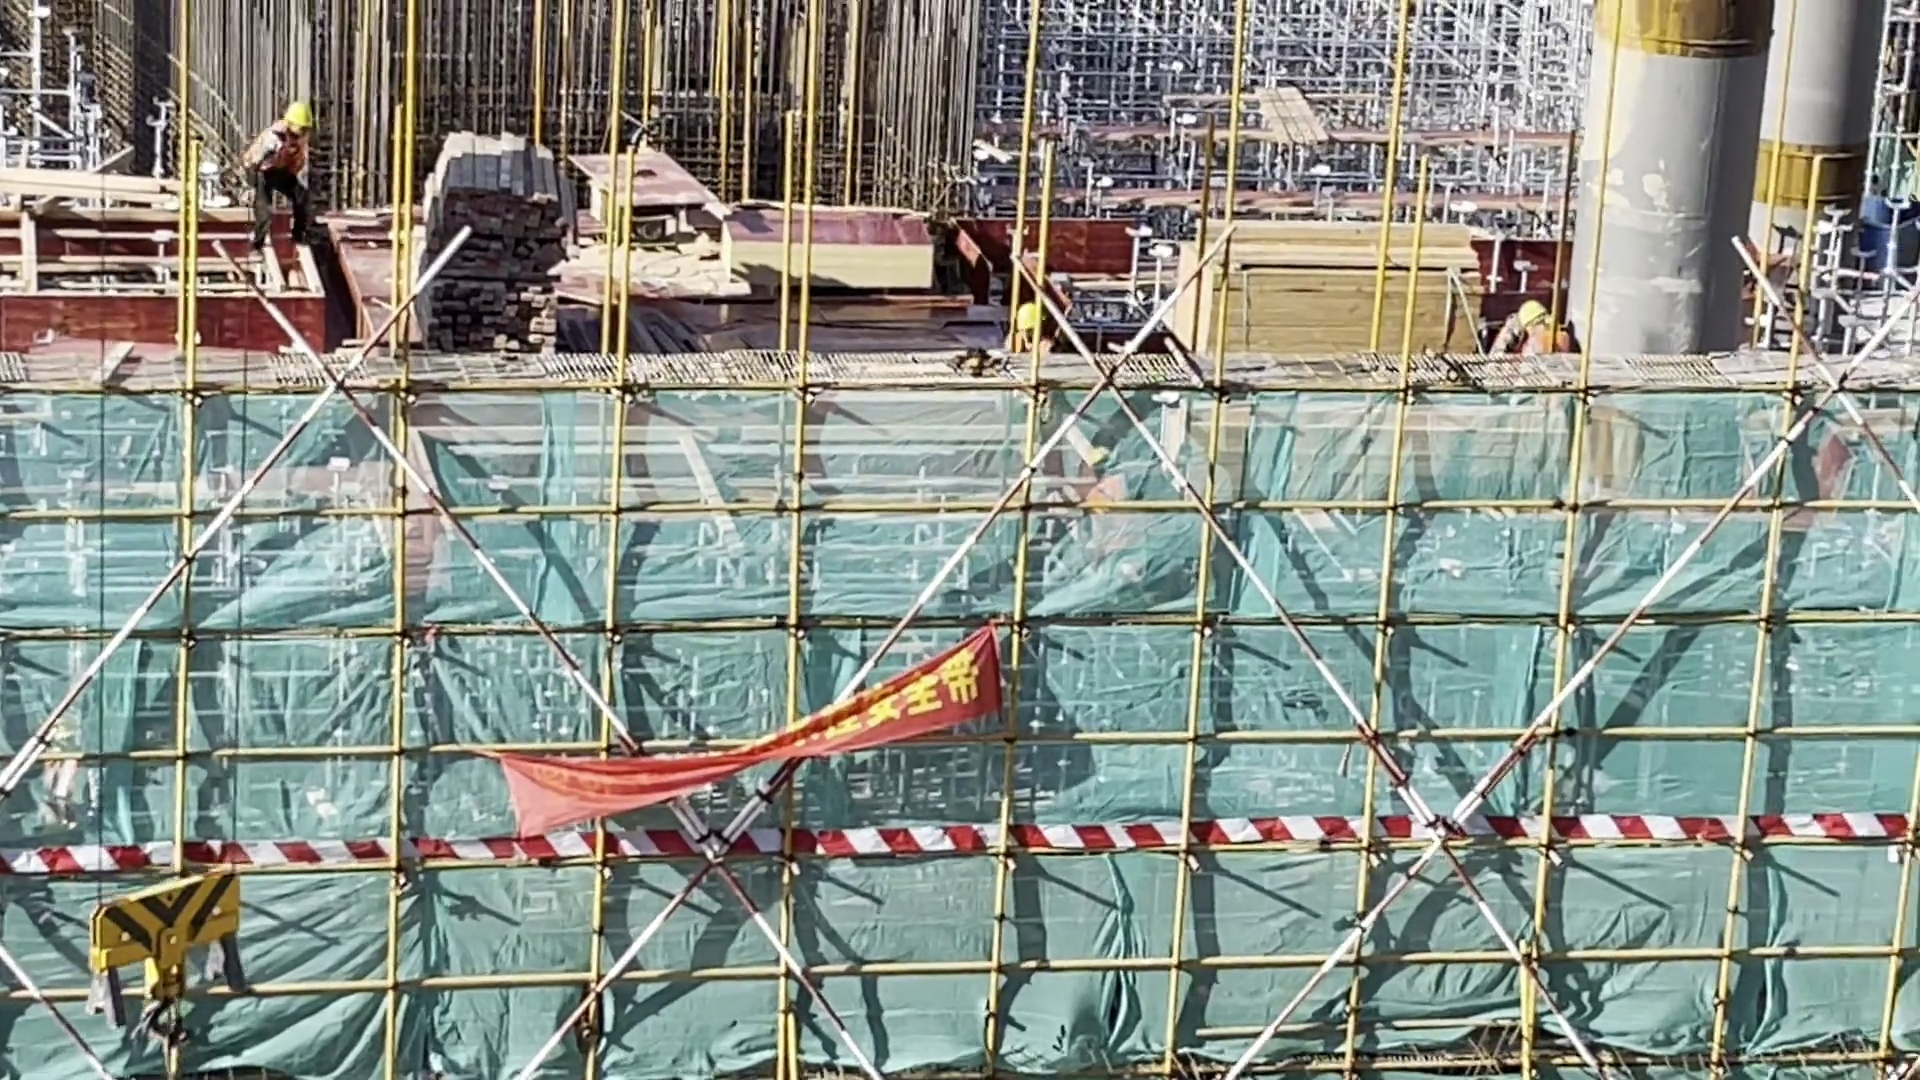cutter: (623, 163, 675, 184)
helmet: (285, 97, 313, 134)
hook: (82, 862, 254, 1044)
person: (242, 91, 320, 249), (1487, 300, 1591, 358), (1002, 298, 1056, 356)
slogan: (495, 609, 1013, 868)
wood: (1180, 202, 1489, 379), (392, 120, 574, 366)
